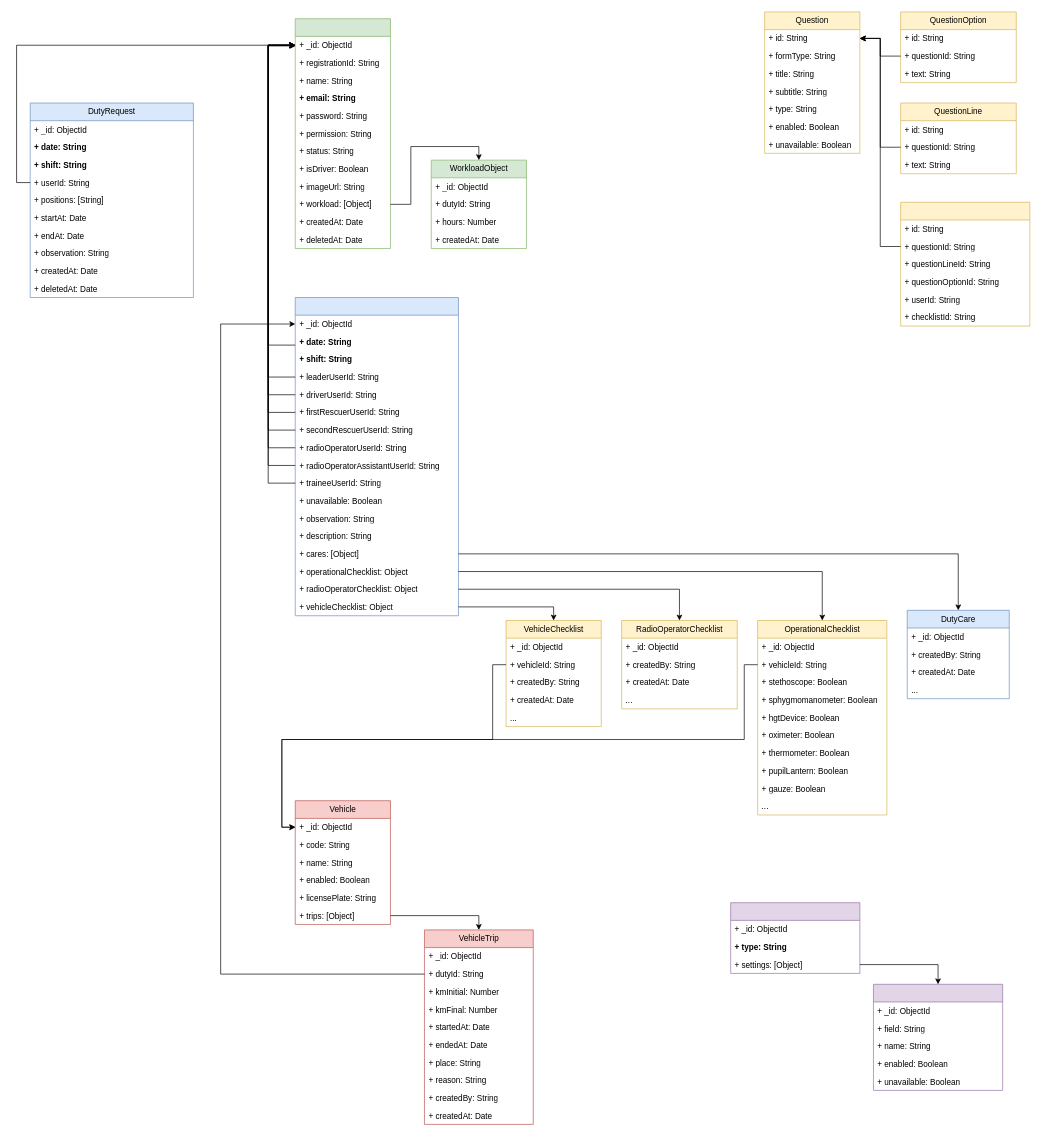
This 1042x1138 diagram has some shape labels left out. Each missing label, with the box of its shape:
Duty: (295, 297, 458, 616)
FormSettings: (730, 902, 860, 973)
FormSettingsObject: (873, 984, 1003, 1090)
QuestionAnswer: (900, 202, 1030, 326)
User: (295, 18, 390, 249)
